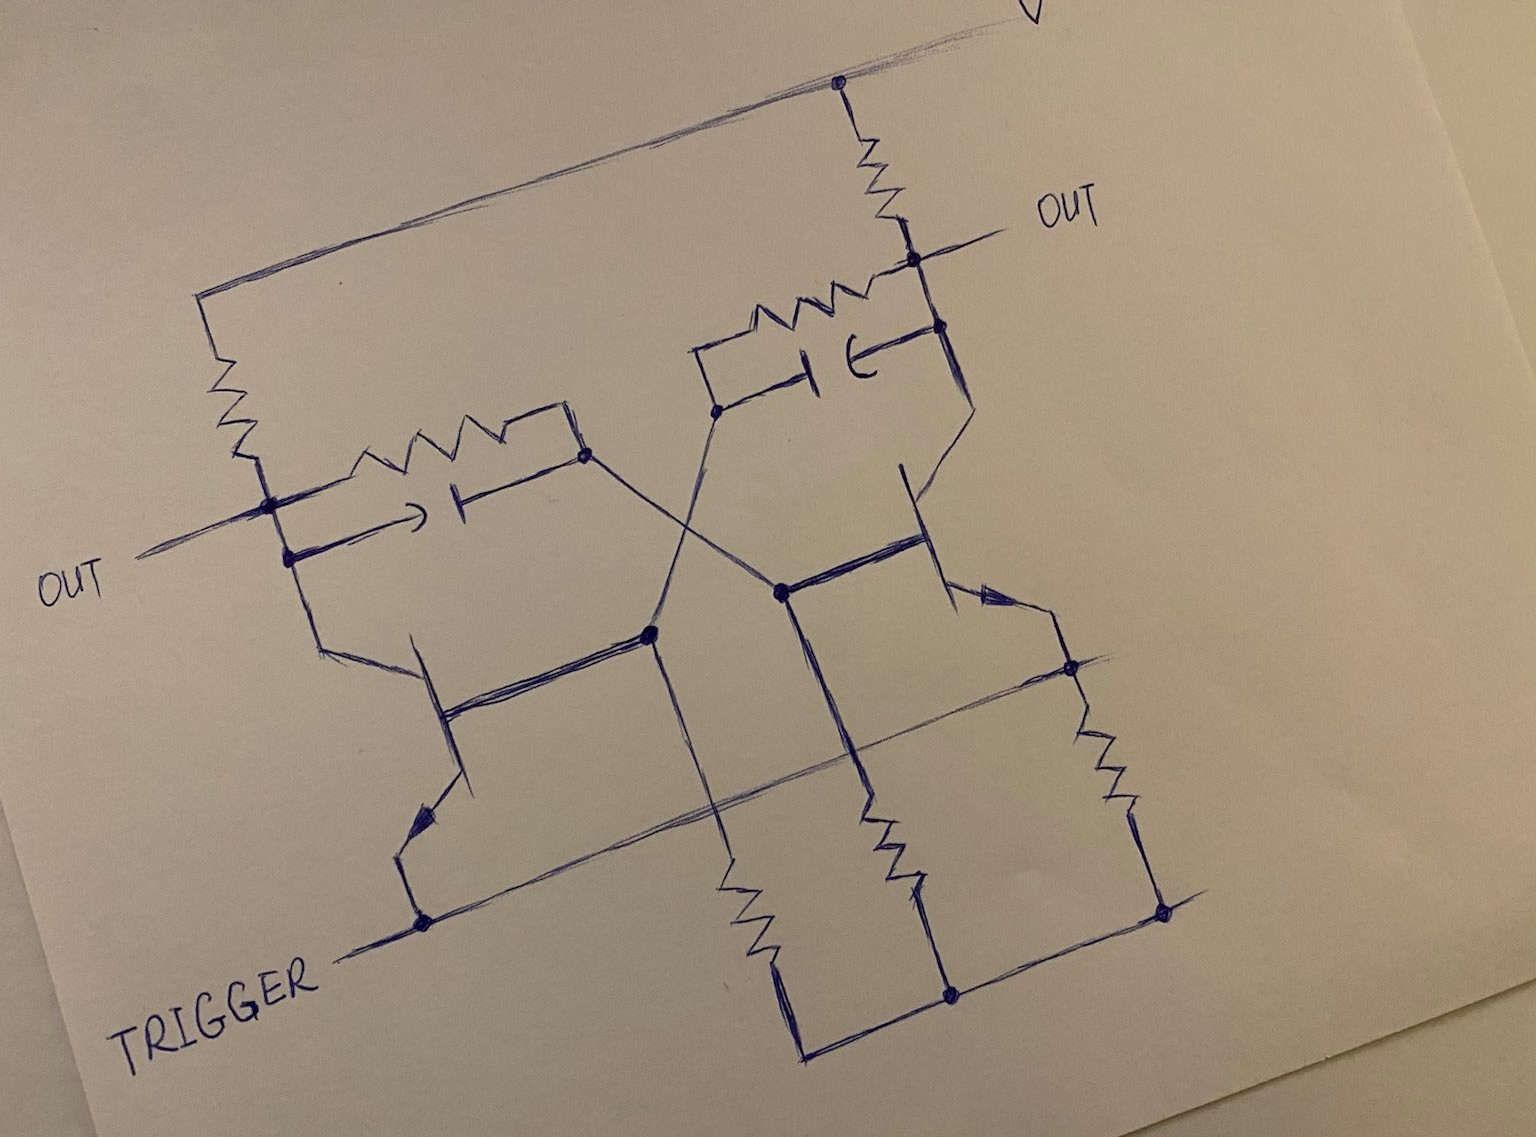capacitor.unpolarized: (789, 334, 881, 402), (399, 480, 489, 536)
crossover: (683, 780, 747, 832), (824, 727, 880, 778), (662, 506, 714, 547)
junction: (922, 969, 985, 1022), (626, 607, 675, 663), (754, 566, 804, 620), (774, 1028, 827, 1077), (1042, 647, 1102, 686), (918, 305, 966, 349), (399, 902, 449, 940), (895, 236, 932, 282), (250, 484, 289, 526), (819, 60, 858, 102), (271, 539, 309, 580), (696, 389, 736, 428), (1144, 891, 1175, 938), (549, 382, 586, 420), (182, 279, 216, 316), (678, 332, 714, 365), (566, 437, 600, 471)
resistor: (327, 408, 526, 473), (1073, 699, 1147, 837), (732, 272, 890, 333), (855, 789, 932, 910), (714, 858, 789, 970), (205, 351, 270, 466), (853, 135, 910, 225)
terminal: (907, 13, 1012, 63), (1179, 875, 1247, 912), (130, 529, 189, 571), (958, 219, 1022, 256), (327, 942, 387, 973)
text: (81, 955, 322, 1076), (1036, 171, 1111, 239), (33, 554, 113, 608), (1016, 1, 1056, 30)
transistor: (289, 628, 485, 869), (880, 410, 1059, 620)
